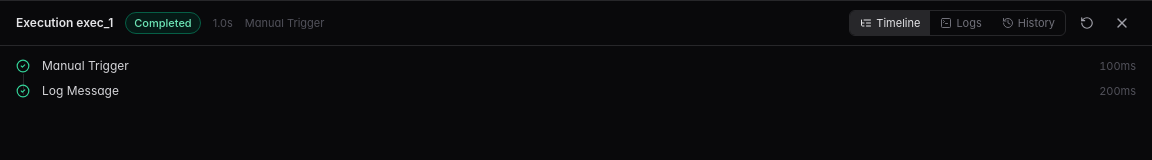
Test case: ExecutionPanel › loads and renders run history for the workflow
This screenshot has width=1152, height=160.
Click the button "History".
click(1028, 23)  # box [992,11,1065,35]
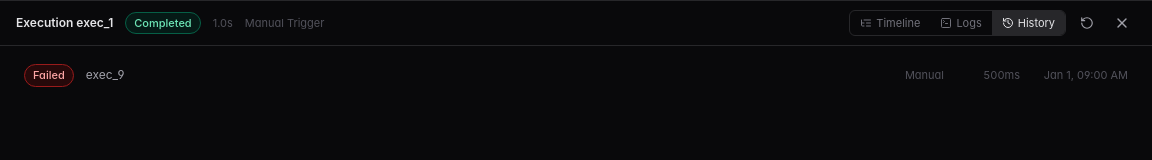
Check: the text "exec_9" is shown, box [86,67,124,82]
